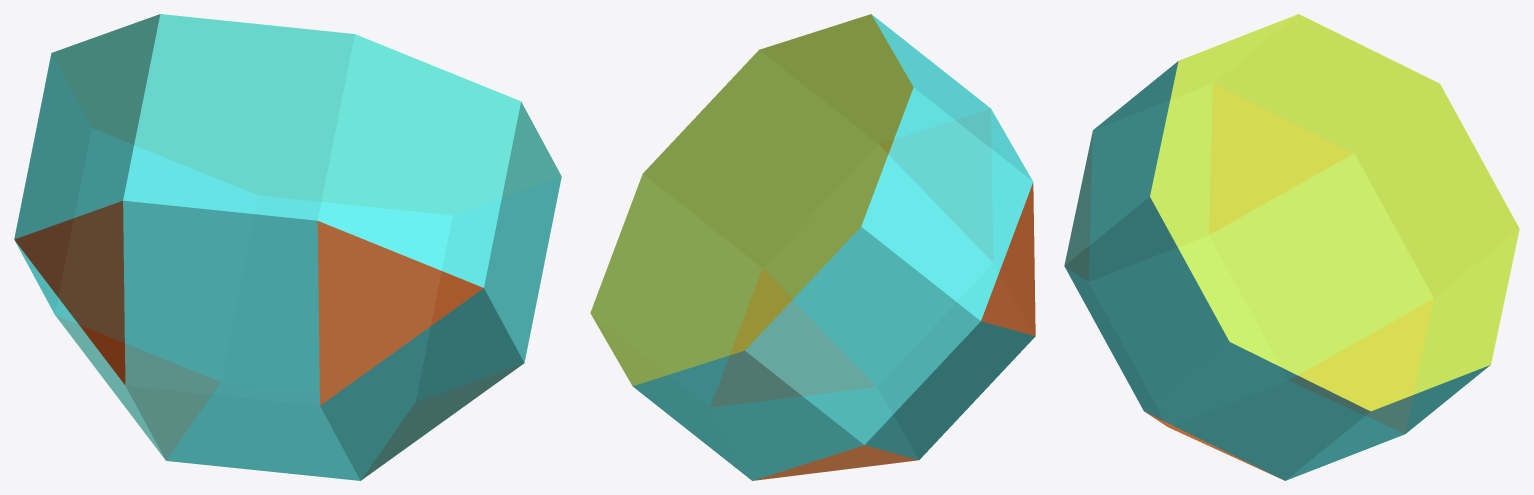
Rendered from j19_elongated_square_cupola.obj.
3 renders of one model, left to right at view 1: azimuth 30°, elevation 25°; view 2: azimuth 150°, elevation 25°; view 3: azimuth 270°, elevation 25°, orthographic. The views are drawn at different scales.
Bounding box in the file's own units: 1.96 × 1.78 × 1.97.
